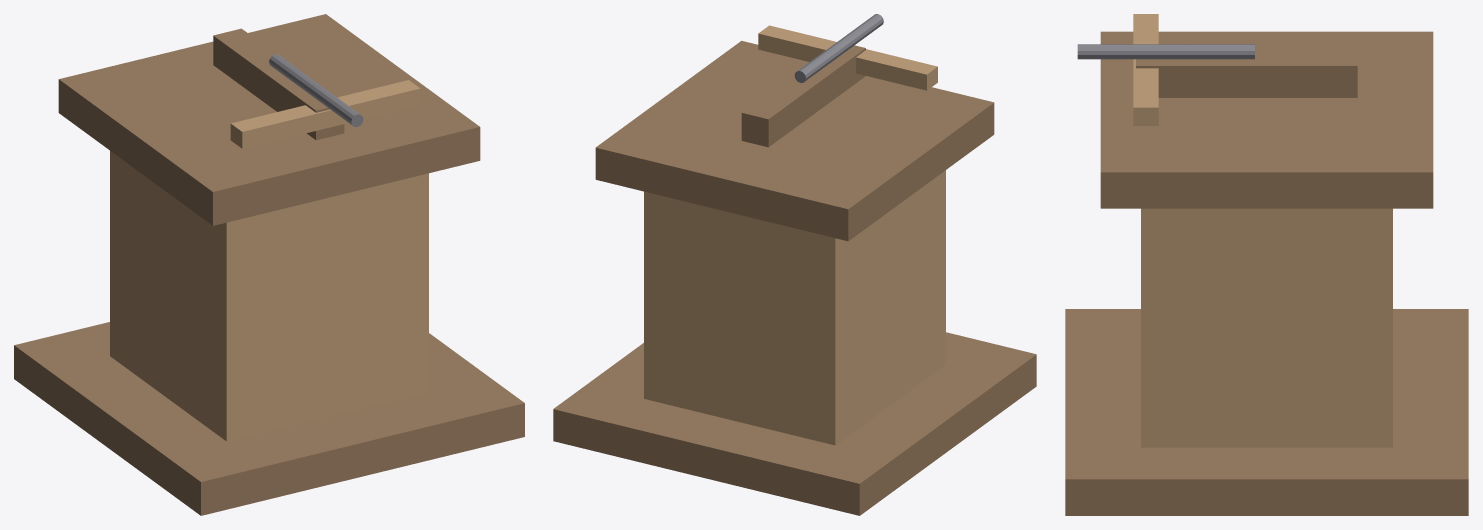
Rendered from arrow-1.glb.
The picture shows the model from 3 angles, left to right: view 1: azimuth 30°, elevation 25°; view 2: azimuth 150°, elevation 25°; view 3: azimuth 270°, elevation 25°; orthographic projection. The views are drawn at different scales.
Parts seen in each view (by area): view 1: arrow-1 post, arrow-1 deck, arrow-1 base, arrow-1 limbs, arrow-1 stock, arrow-1 bolt; view 2: arrow-1 post, arrow-1 deck, arrow-1 base, arrow-1 stock, arrow-1 limbs, arrow-1 bolt; view 3: arrow-1 post, arrow-1 base, arrow-1 deck, arrow-1 stock, arrow-1 bolt, arrow-1 limbs.
Boxes of the visible parts, <box> form: arrow-1 post: <box>110,151,428,441</box>; arrow-1 deck: <box>58,14,480,225</box>; arrow-1 base: <box>14,322,524,515</box>; arrow-1 limbs: <box>230,80,420,148</box>; arrow-1 stock: <box>213,28,344,140</box>; arrow-1 bolt: <box>269,54,363,126</box>; arrow-1 post: <box>644,170,945,445</box>; arrow-1 deck: <box>595,40,994,241</box>; arrow-1 base: <box>553,332,1036,515</box>; arrow-1 stock: <box>741,45,865,147</box>; arrow-1 limbs: <box>758,25,937,90</box>; arrow-1 bolt: <box>794,14,883,82</box>; arrow-1 post: <box>1141,208,1392,447</box>; arrow-1 base: <box>1065,309,1468,515</box>; arrow-1 deck: <box>1100,31,1433,208</box>; arrow-1 stock: <box>1136,51,1357,97</box>; arrow-1 bolt: <box>1077,44,1254,59</box>; arrow-1 limbs: <box>1133,14,1158,125</box>.
Bounding box in the file's own units: 0.8 × 0.845 × 0.8.
